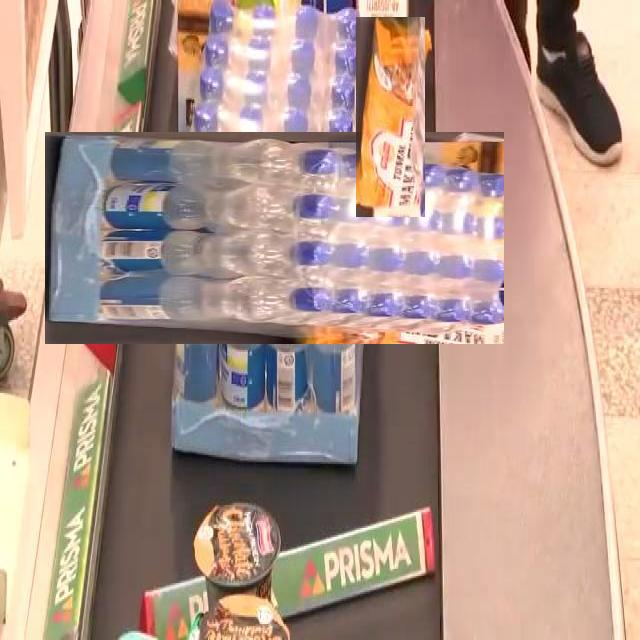beverage: (106, 70, 442, 406)
food-box: (355, 16, 425, 217), (196, 492, 286, 626)
